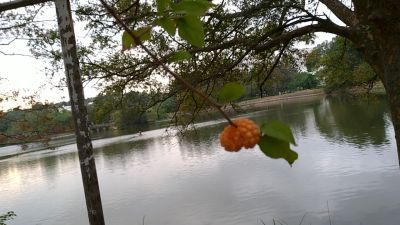eggs: (219, 116, 260, 153)
